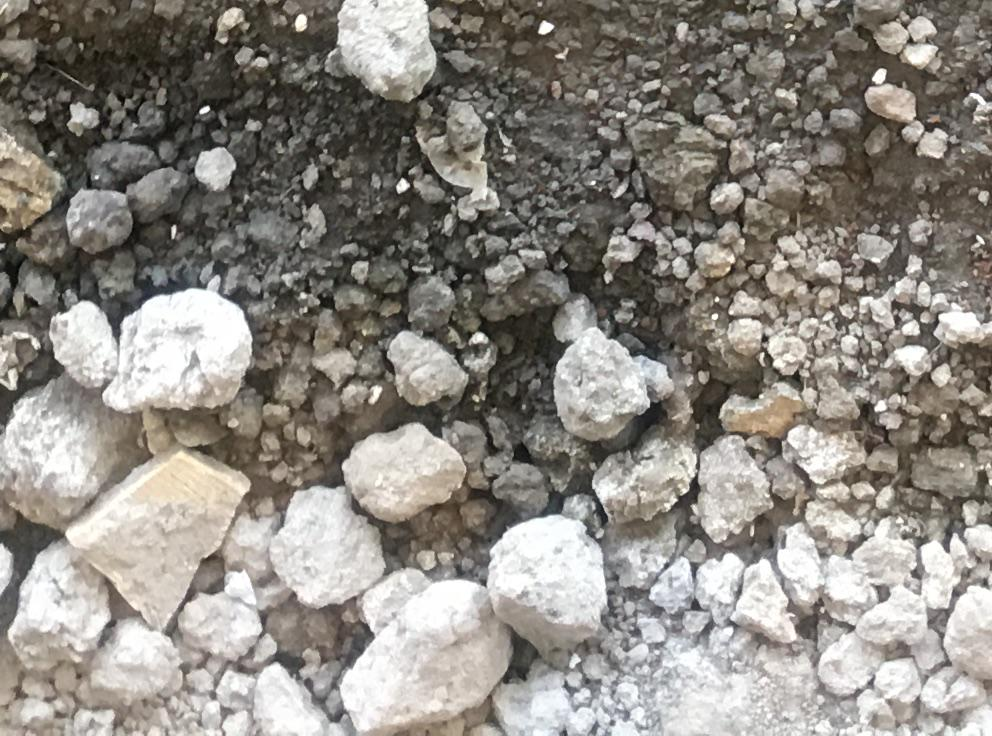block: (63, 447, 247, 634), (341, 580, 509, 732), (2, 373, 145, 536), (487, 508, 611, 663), (107, 289, 255, 417), (263, 485, 387, 605), (7, 529, 107, 674), (337, 426, 472, 522), (75, 608, 194, 708), (549, 326, 647, 444), (334, 1, 445, 104)
